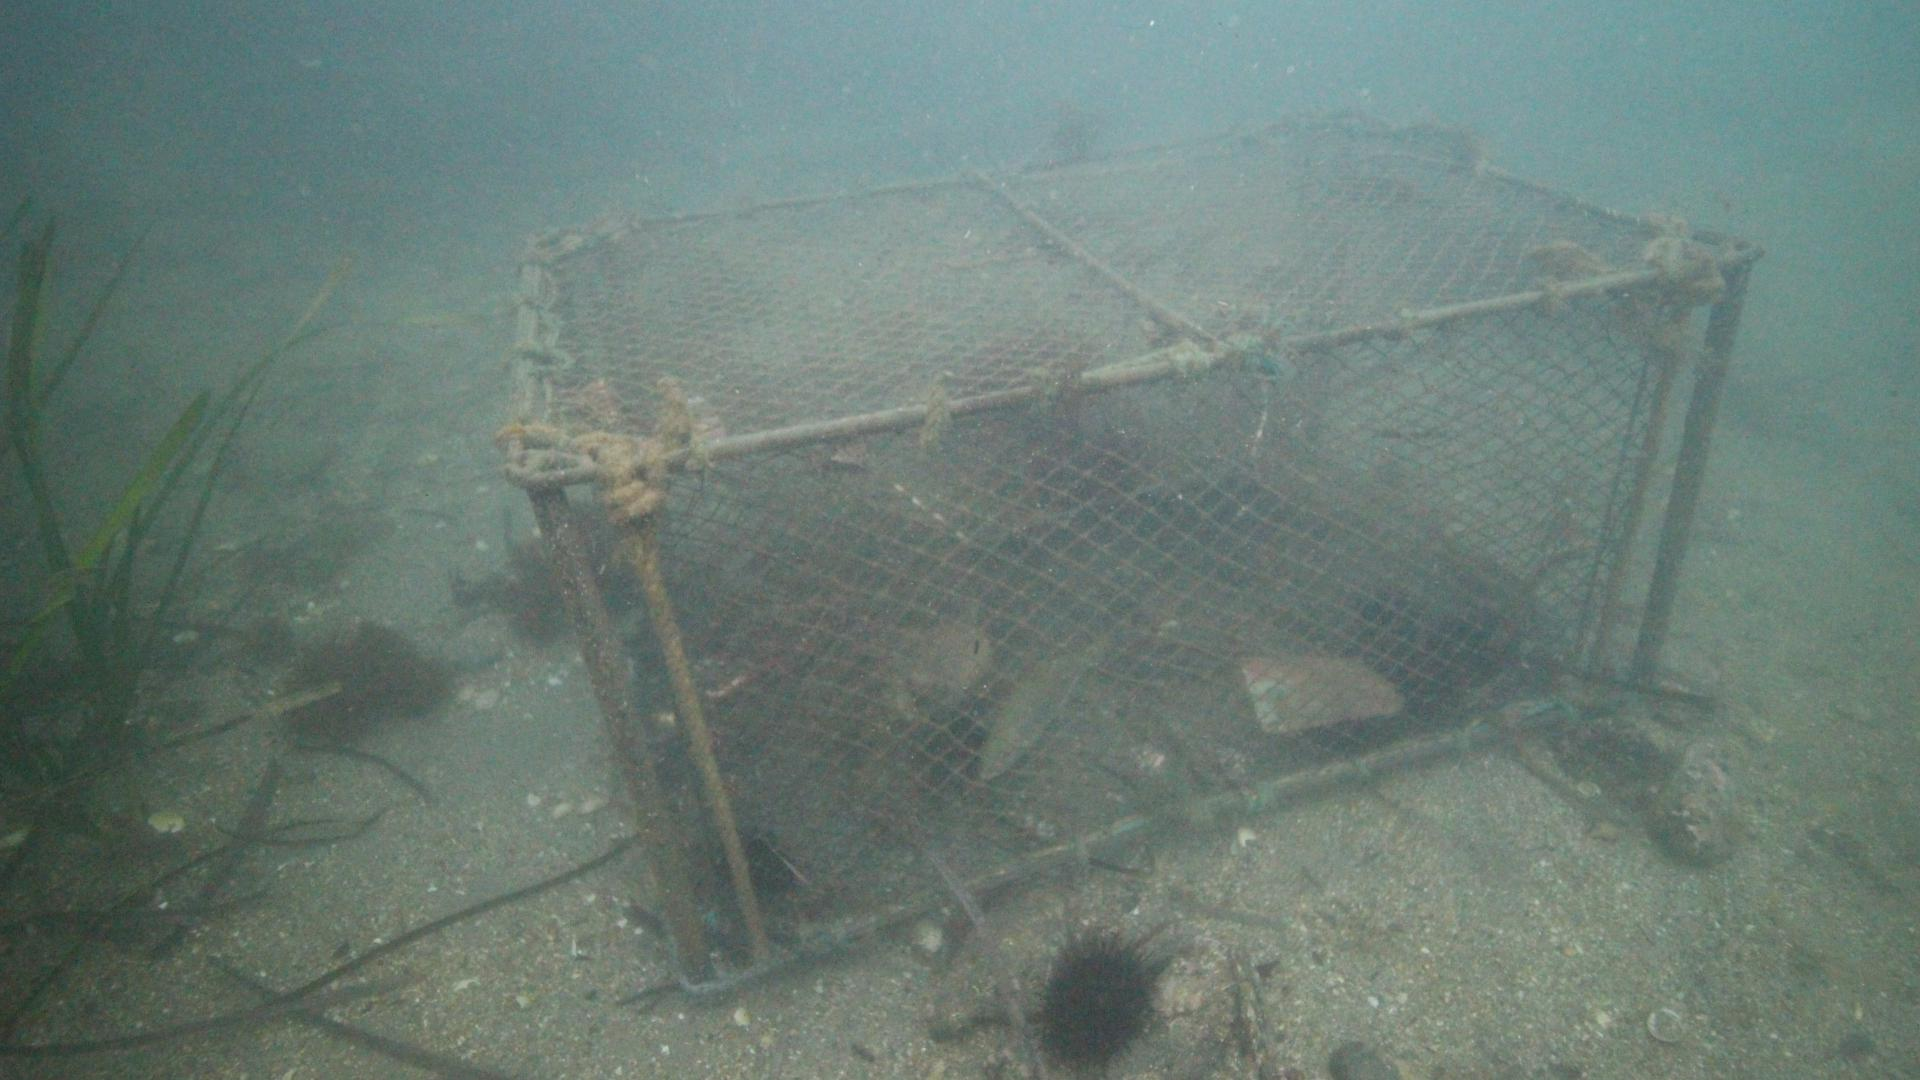rectangular fish trap: (498, 109, 1770, 1002)
